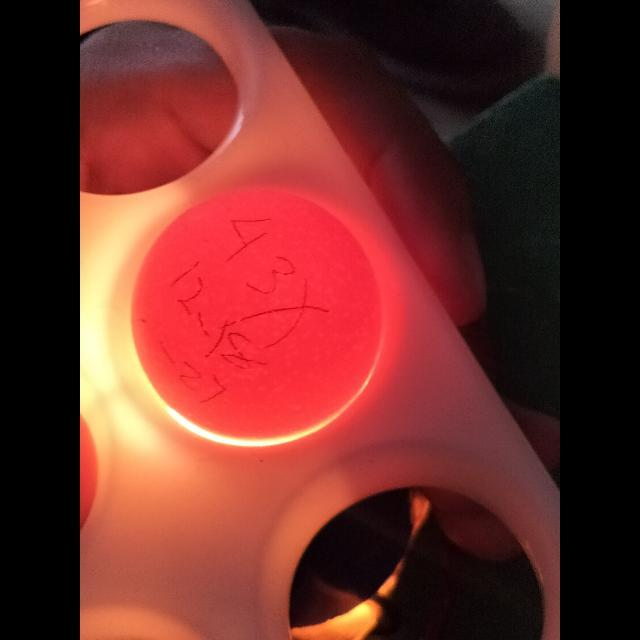Infertile: (130, 177, 382, 435)
